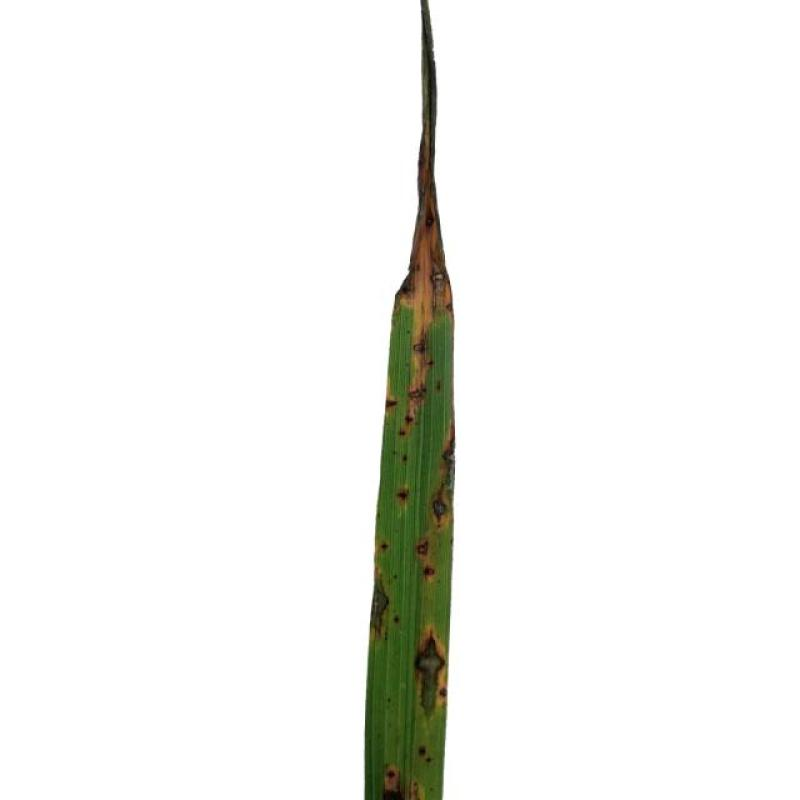Leaf_Blast: (394, 128, 444, 342), (407, 619, 446, 721), (376, 746, 425, 800), (372, 566, 398, 632), (411, 539, 440, 579), (431, 484, 451, 535), (440, 426, 456, 482)
